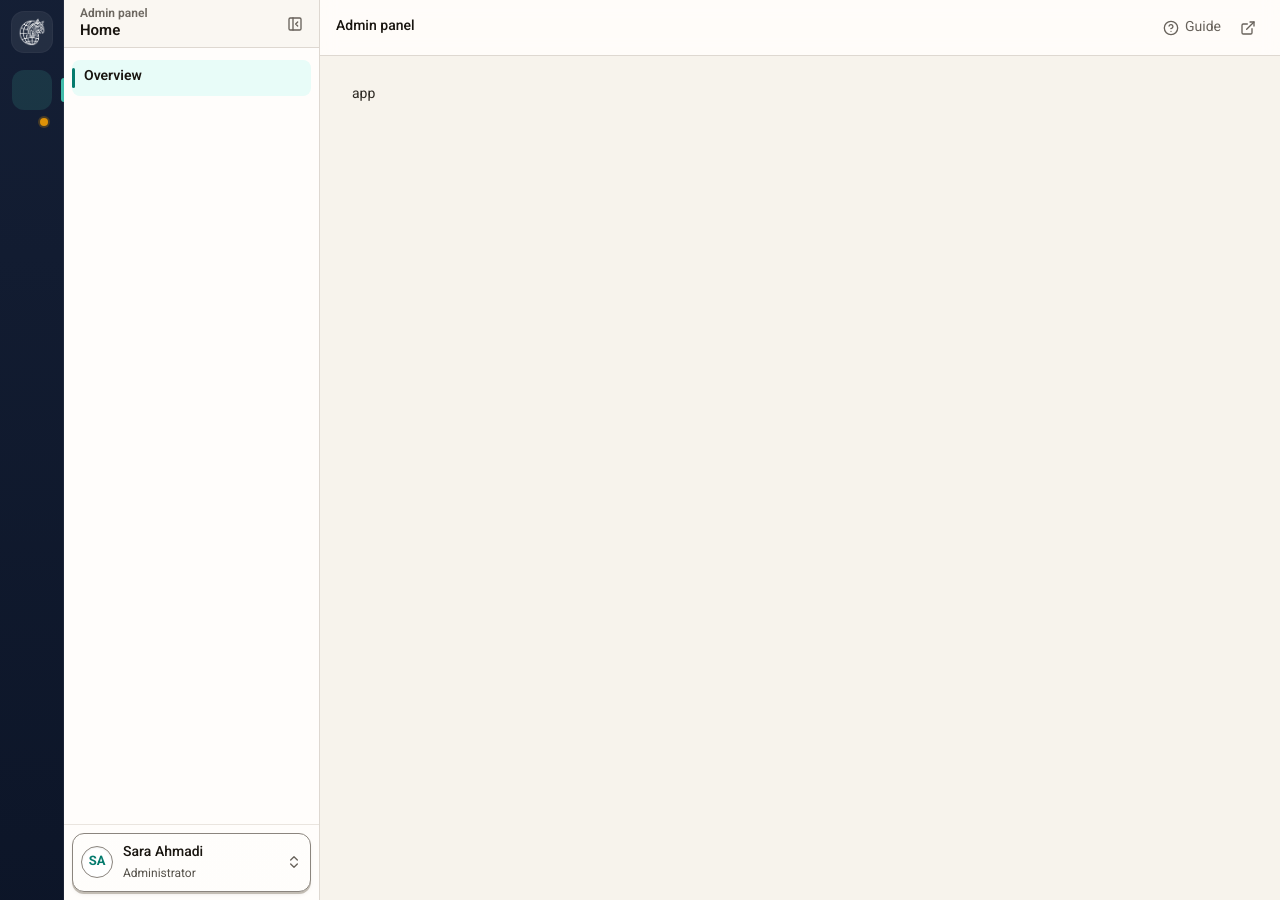
Scenario: AppShell › opens the account menu with the actions that belong to the account
Click the button named "Account menu" at [192, 862], box x1=72 y1=833 x2=311 y2=892
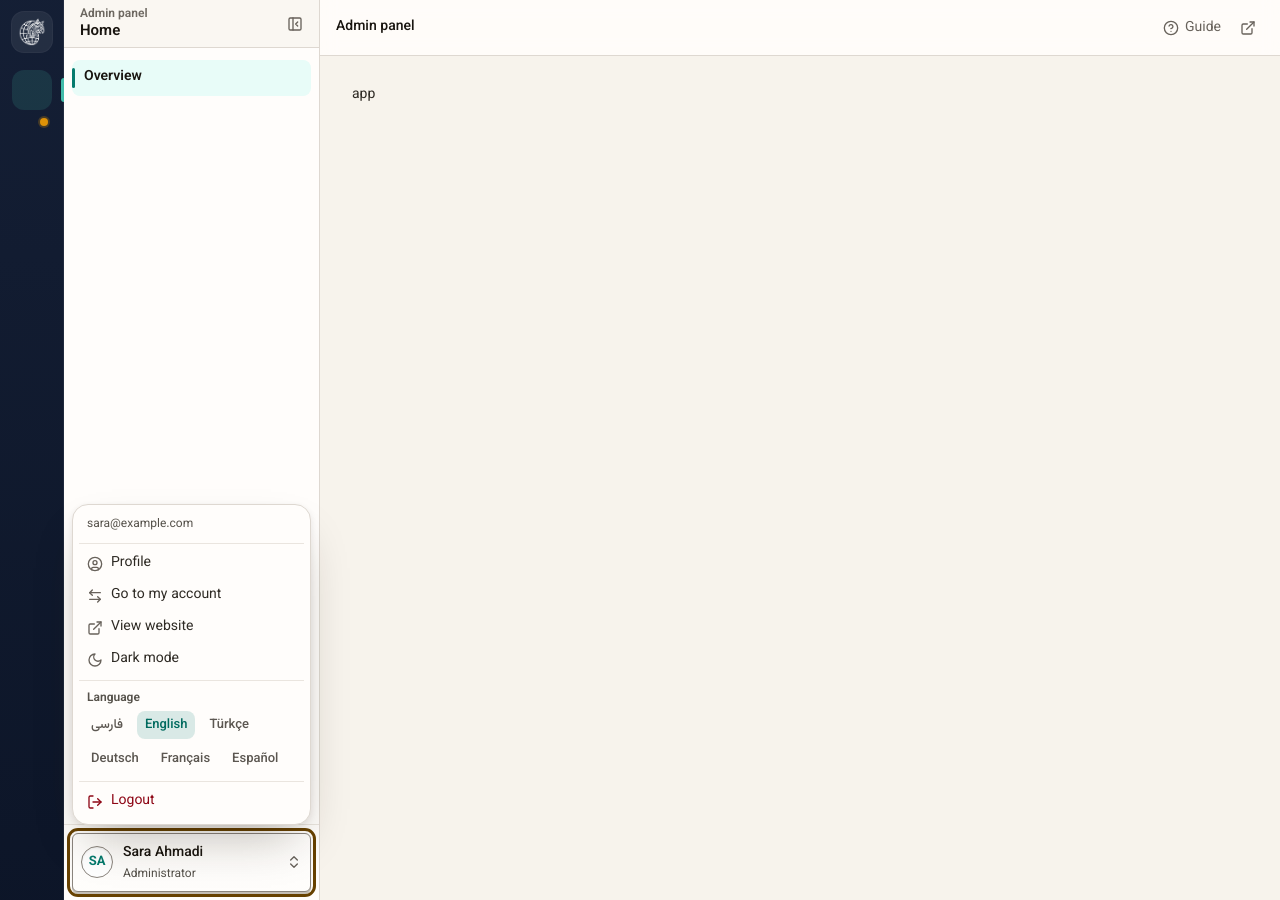
Result: the button "Logout" is shown at x1=79 y1=786 x2=304 y2=818
